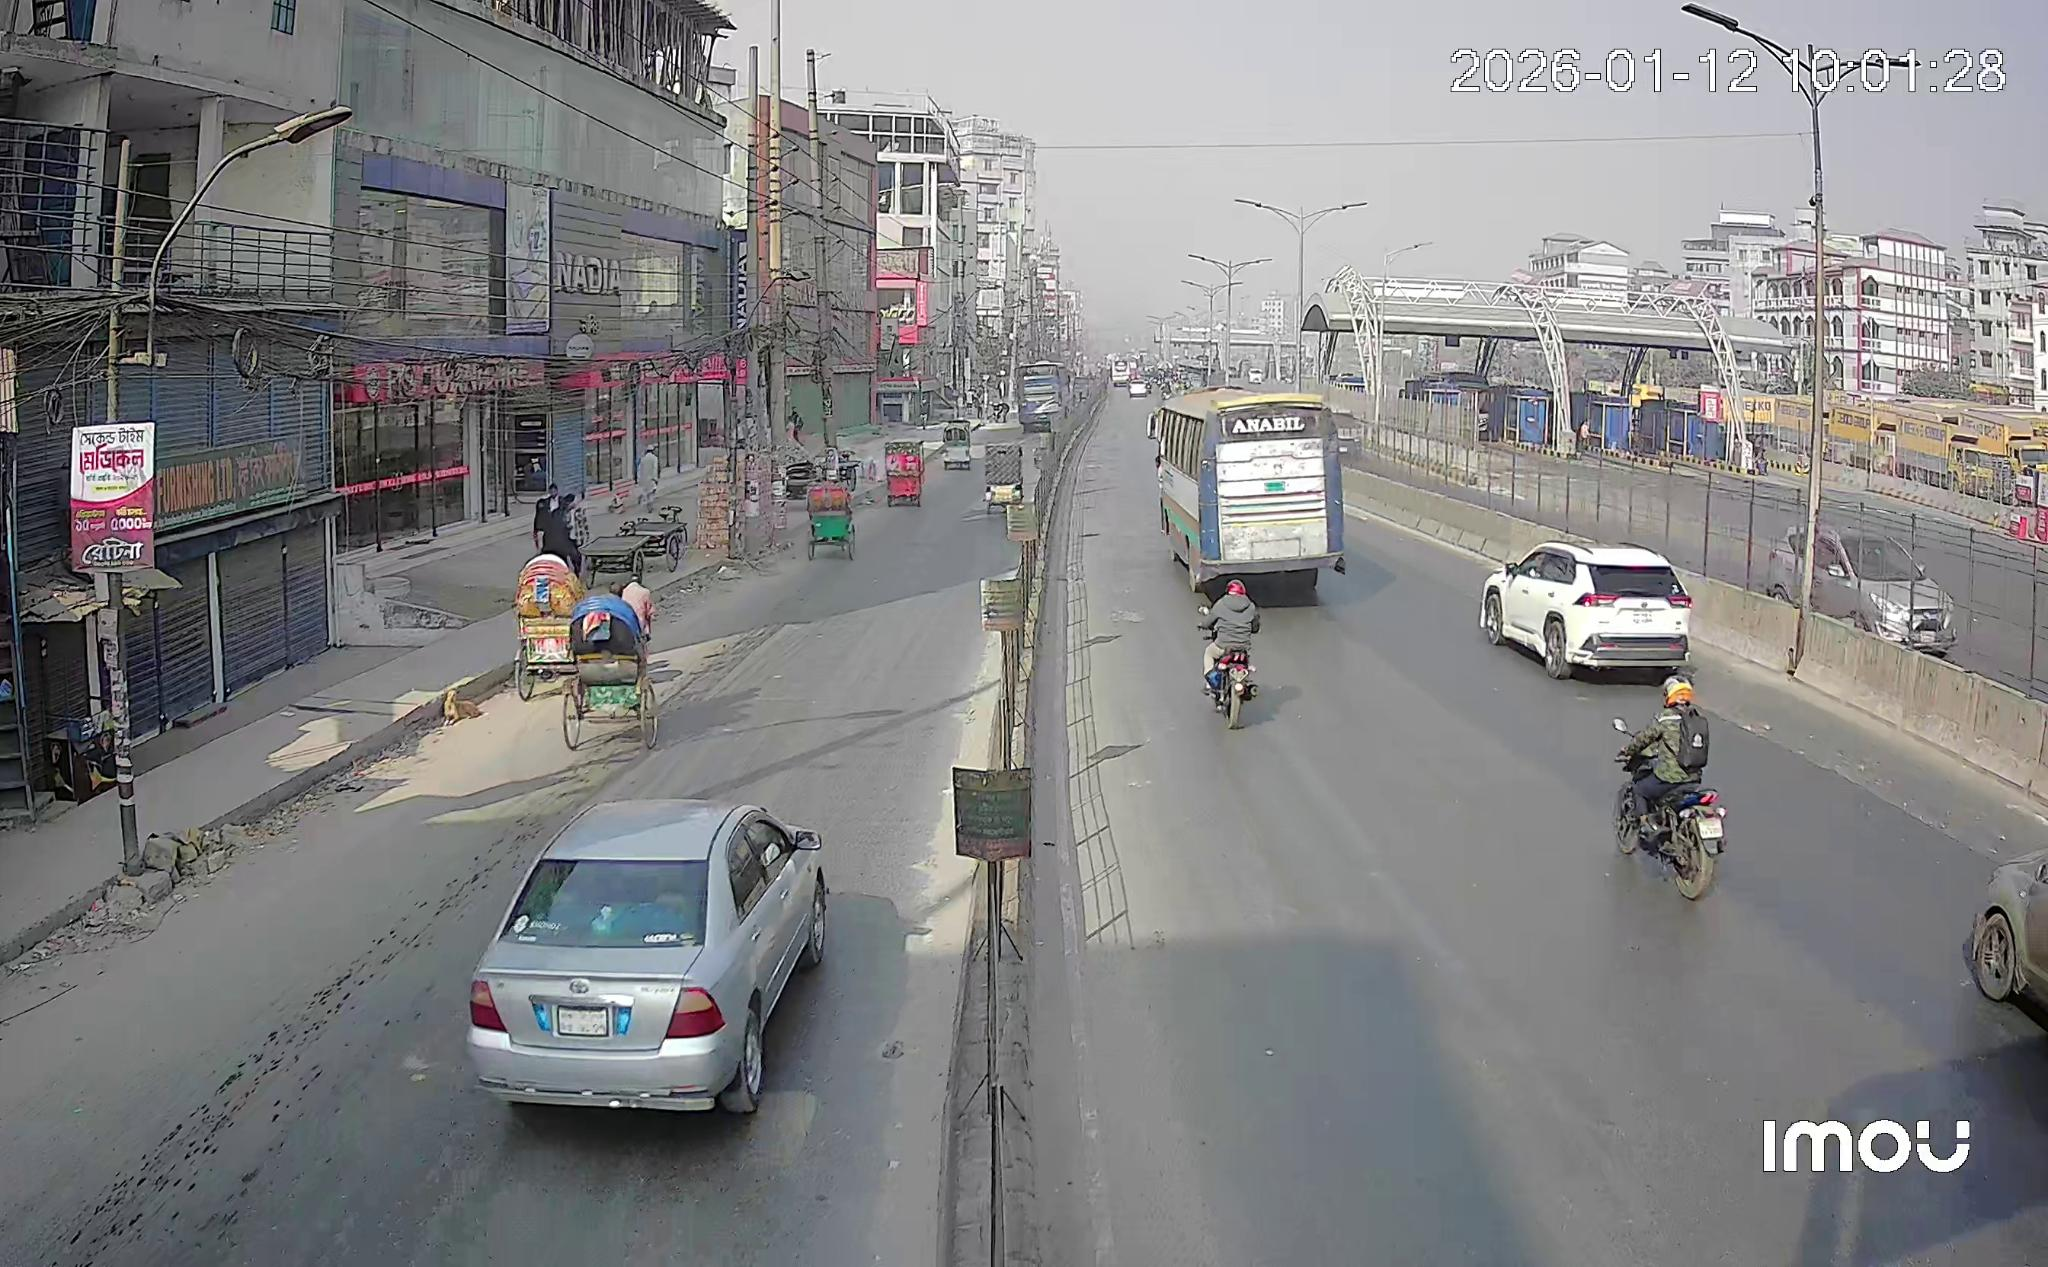Bus: (1150, 388, 1344, 593)
Cycle Rickshaw: (513, 556, 655, 748), (806, 484, 856, 560), (884, 442, 929, 505), (989, 445, 1020, 506), (939, 424, 973, 471)
Motorcycle: (1616, 679, 1723, 897), (1198, 581, 1260, 727)
Private-Sedan Car: (468, 800, 828, 1112), (1480, 543, 1704, 677), (1814, 527, 1956, 655), (1970, 859, 2047, 1001), (1764, 528, 1802, 601)
